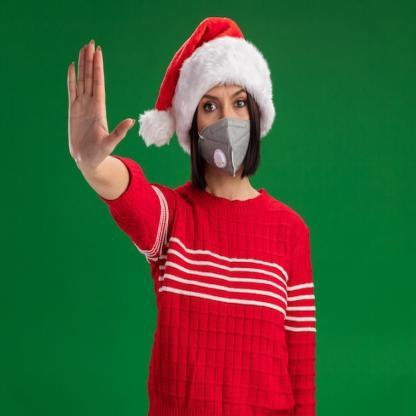stop: (60, 33, 136, 180)
